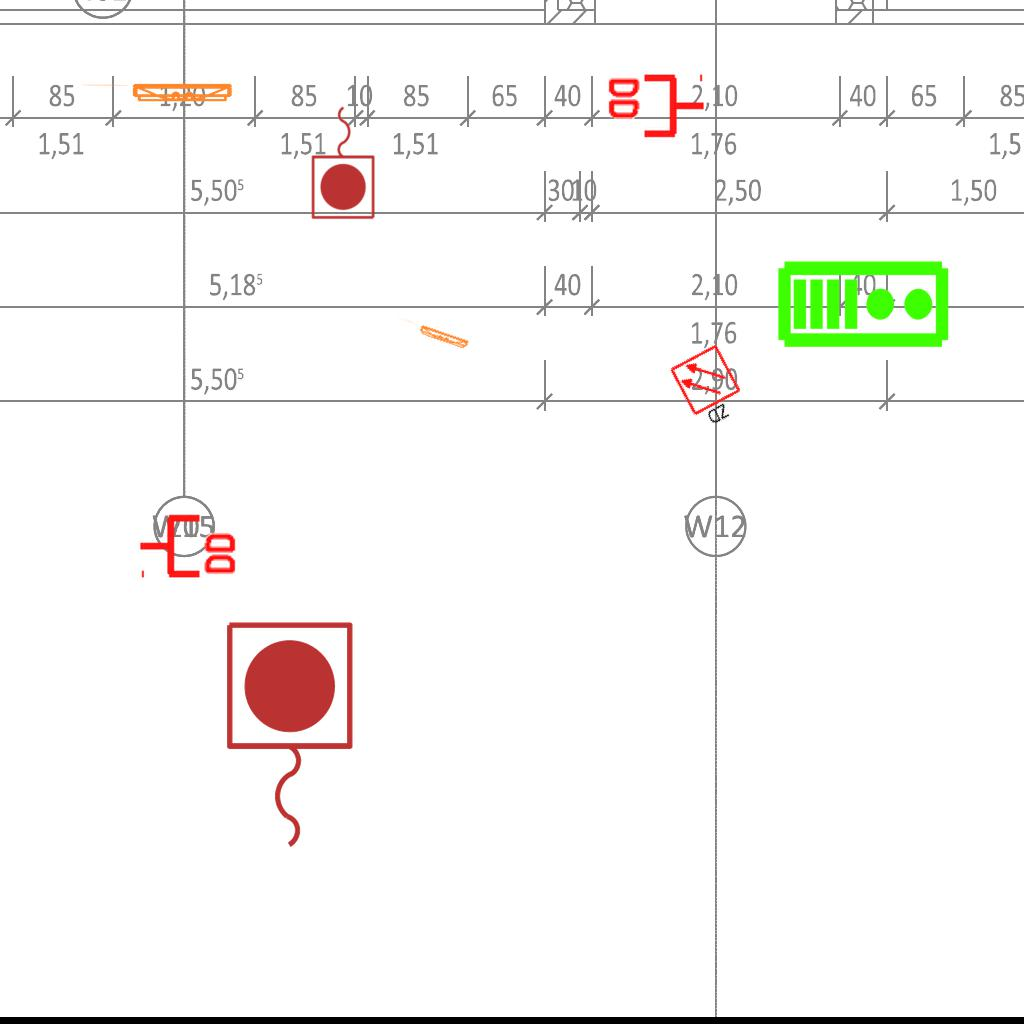Datenanschluss_zweifach: (137, 510, 240, 579), (604, 73, 707, 142)
Gegensprechanlage_mit_Video: (776, 255, 952, 350)
Sicherheitsleuchte_Wandeinbau: (78, 81, 237, 106), (392, 314, 472, 353)
ZD_Melder_in_Zwischendecke_mit_Revisionsoeffnung_mind_40_x_40_cm: (667, 341, 754, 435)
Zugtaster: (216, 614, 360, 858), (308, 101, 380, 223)
